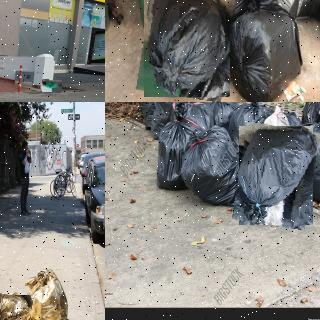Garbage: (140, 0, 234, 99), (235, 124, 317, 227), (227, 11, 306, 102), (181, 125, 246, 206), (157, 106, 203, 190), (24, 265, 70, 320), (229, 102, 275, 146), (297, 119, 320, 205), (188, 0, 253, 22), (248, 0, 307, 24), (153, 102, 195, 134), (135, 102, 173, 127), (0, 293, 33, 320), (210, 102, 239, 126), (42, 80, 62, 92)
